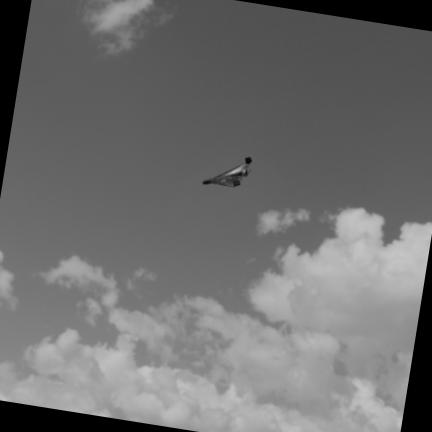Shahed: (204, 158, 251, 186)
